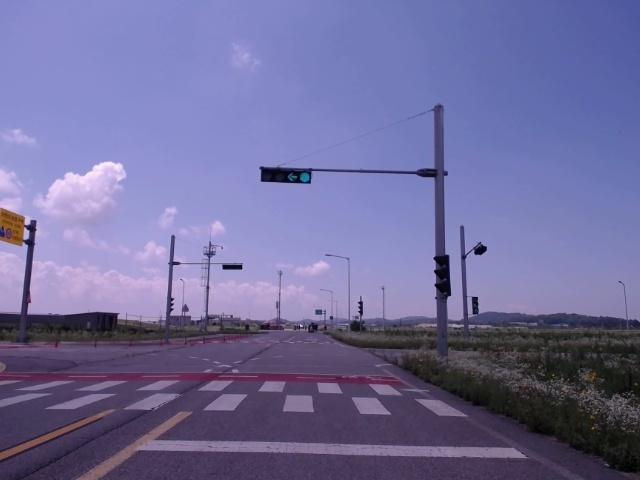all_green_4: (262, 167, 313, 184)
